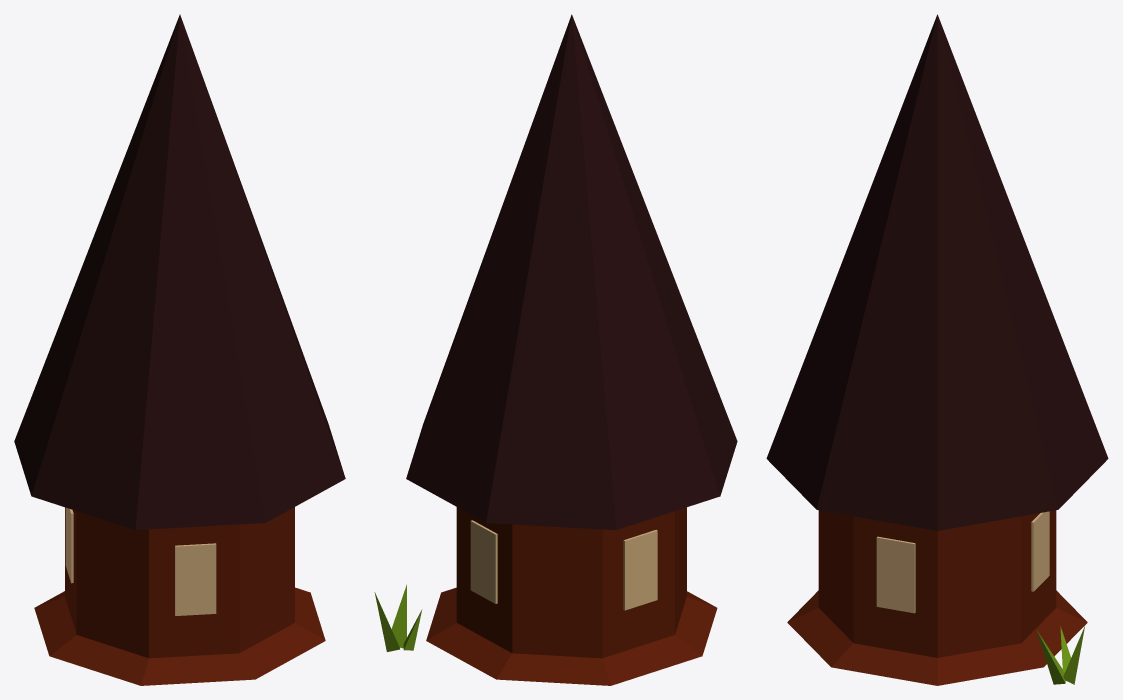
File: Human-MainStructureLVL1.fbx
3 renders of one model, left to right at view 1: azimuth 30°, elevation 25°; view 2: azimuth 150°, elevation 25°; view 3: azimuth 270°, elevation 25°, orthographic.
Visible parts, largest first — view 1: Main-Point-lvl1; view 2: Main-Point-lvl1; view 3: Main-Point-lvl1.
Boxes of the visible parts, x1,y1,x2,y2 form: Main-Point-lvl1: [14, 14, 345, 685]; Main-Point-lvl1: [374, 14, 737, 685]; Main-Point-lvl1: [766, 14, 1108, 685].
Size of the model in its own units: 1.13 by 1.13 by 2.24.
